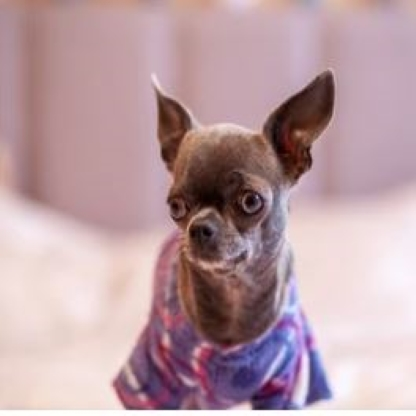chihuahua: (147, 68, 346, 334)
